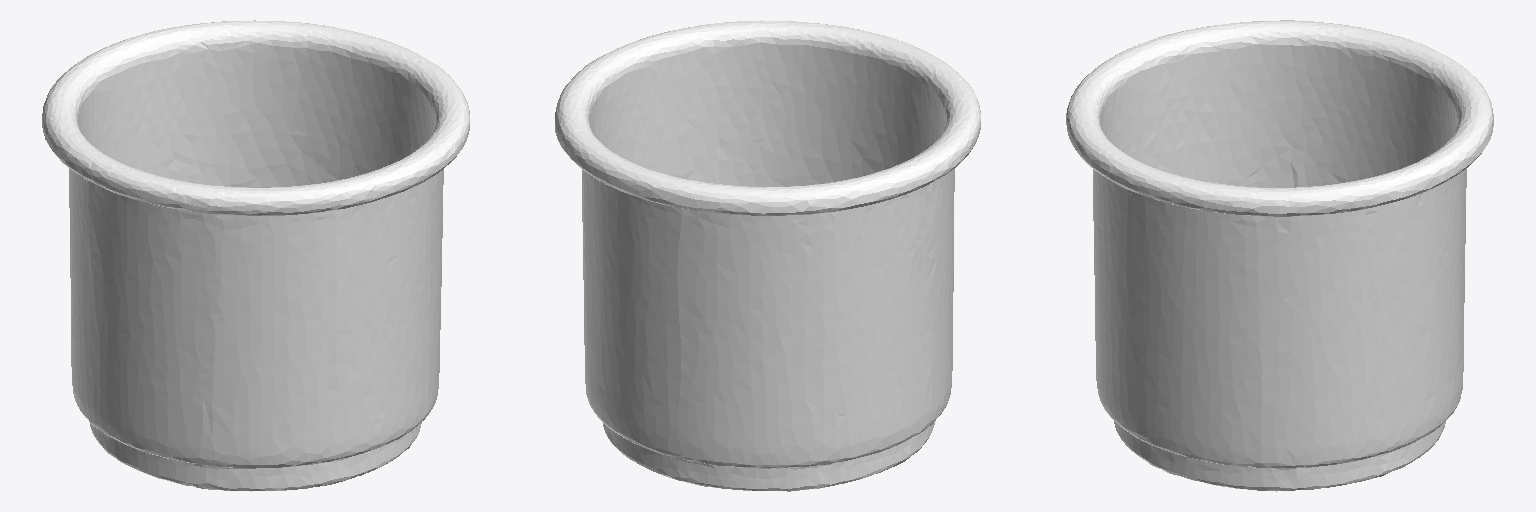
URDF robot description (032_knife):
<robot name="032_knife">
	<link name="_name">
		<visual>
			<origin xyz="-0.08445076147284661 0.29092631283473025 -0.05000385834128536" rpy="0 0 0" />
			<geometry>
				<mesh filename="032_knife/google_16k/textured.obj" scale="10 10 10" />
			</geometry>
			<material name="texture">
				<color rgba="1.0 1.0 1.0 1.0" />
			</material>
		</visual>
		<collision>
			<geometry>
				<mesh filename="032_knife/google_16k/textured_vhacd.obj" scale="10 10 10" />
			</geometry>
		<origin xyz="-0.08445076147284661 0.29092631283473025 -0.05000385834128536" rpy="0 0 0" /></collision>
		<inertial>
			<mass value="1.0" />
			<inertia ixx="1.0" ixy="0.0" ixz="0.0" iyy="1.0" iyz="0.0" izz="1.0" />
		</inertial>
	</link>
</robot>

--- What the picture shows (computed from the rendered views, not written in the file) ---
Views: 3 orthographic renders of the robot side by side, from view 1: azimuth 30°, elevation 25°; view 2: azimuth 150°, elevation 25°; view 3: azimuth 270°, elevation 25°.
Robot: 032_knife — 1 links, 0 joints (none); root link _name; default pose: all joints at 0.
Visible links, largest first — view 1: _name; view 2: _name; view 3: _name.
Boxes of the visible links, box(x1,y1,x2,y2) form: _name: box(42, 20, 469, 491); _name: box(555, 20, 980, 491); _name: box(1066, 20, 1493, 491).
Bounding box of the posed robot: 0.915 × 0.9162 × 0.7506 m (x, y, z).
Meshes: 1 distinct files referenced, 1 mesh visuals loaded (1 OBJ).